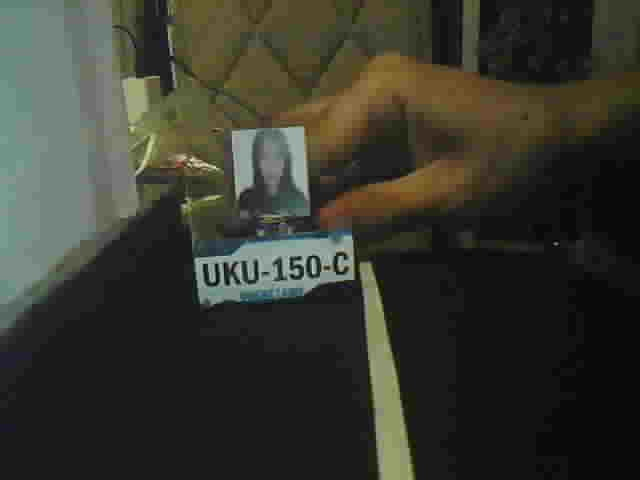PLACA: (191, 226, 356, 311)
ROSTRO: (232, 130, 309, 217)
